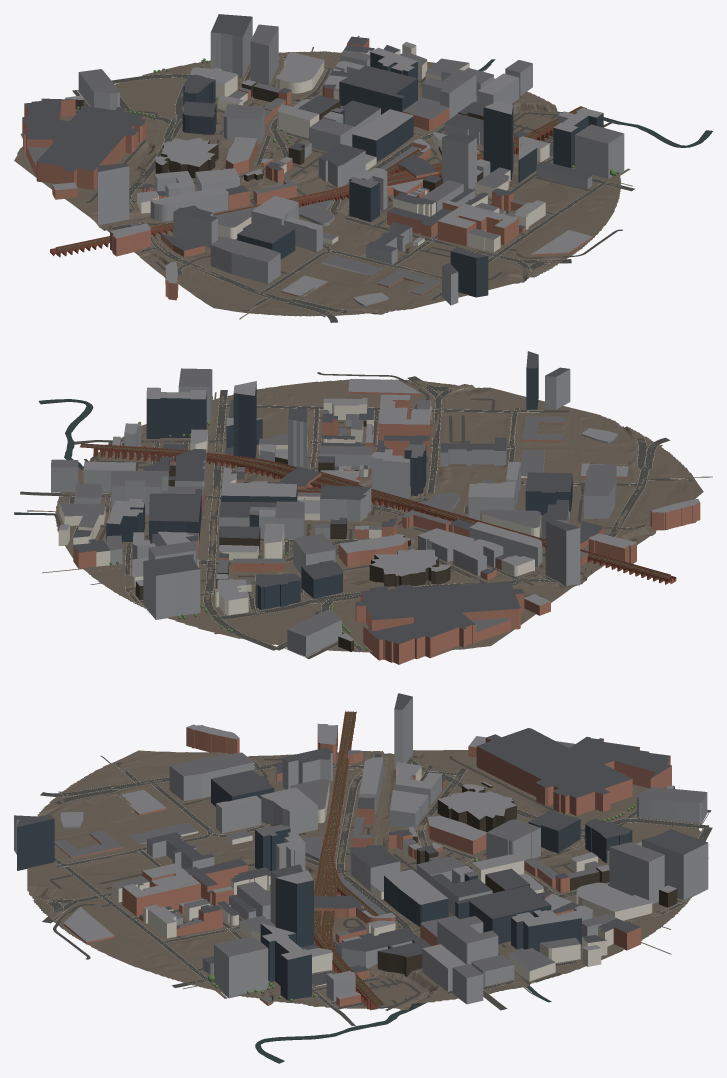
Rendered from sur_m_src.glb.
3 views of the same model, one above another, from view 1: azimuth 30°, elevation 25°; view 2: azimuth 150°, elevation 25°; view 3: azimuth 270°, elevation 25° (orthographic). The views are drawn at different scales.
Parts seen in each view (by area): view 1: Terrain_EA_DTM, bldg_30089216, bldg_23112318, bldg_30927973, road_3697914, bldg_31177215, viaduct_31178960_arch, bldg_31176345, viaduct_31178960_deck, kerb_3697914, canal_28047773; view 2: Terrain_EA_DTM, bldg_30089216, bldg_23112318, bldg_30927973, road_3697914, bldg_31177215, viaduct_31178960_arch, bldg_31176345, viaduct_31178960_deck, kerb_3697914, canal_28047773; view 3: Terrain_EA_DTM, bldg_30089216, bldg_23112318, bldg_30927973, road_3697914, bldg_31177215, viaduct_31178960_deck, bldg_31176345, viaduct_31178960_arch, kerb_3697914, canal_28047773.
Part boxes in pixels (x1,y1,x2,y2): Terrain_EA_DTM: [14, 35, 632, 319]; bldg_30089216: [27, 17, 624, 306]; bldg_23112318: [22, 14, 592, 300]; bldg_30927973: [52, 42, 603, 304]; road_3697914: [72, 56, 634, 322]; bldg_31177215: [137, 45, 552, 275]; viaduct_31178960_arch: [50, 106, 586, 257]; bldg_31176345: [65, 70, 483, 197]; viaduct_31178960_deck: [56, 106, 585, 251]; kerb_3697914: [73, 56, 629, 322]; canal_28047773: [101, 59, 712, 227]; Terrain_EA_DTM: [27, 379, 712, 657]; bldg_30089216: [51, 368, 617, 656]; bldg_23112318: [73, 351, 700, 664]; bldg_30927973: [59, 358, 699, 641]; road_3697914: [20, 372, 691, 658]; bldg_31177215: [58, 399, 544, 615]; viaduct_31178960_arch: [80, 443, 676, 584]; bldg_31176345: [135, 421, 450, 651]; viaduct_31178960_deck: [80, 444, 670, 578]; kerb_3697914: [20, 378, 684, 658]; canal_28047773: [14, 399, 581, 585]; Terrain_EA_DTM: [27, 750, 709, 1010]; bldg_30089216: [14, 697, 708, 1004]; bldg_23112318: [14, 693, 707, 1006]; bldg_30927973: [17, 723, 676, 1000]; road_3697914: [33, 754, 712, 1025]; bldg_31177215: [112, 767, 652, 986]; viaduct_31178960_deck: [314, 712, 382, 1005]; bldg_31176345: [324, 782, 677, 977]; viaduct_31178960_arch: [314, 711, 383, 1010]; kerb_3697914: [33, 754, 712, 1025]; canal_28047773: [255, 754, 551, 1063].
Size of the model in its own units: 945 by 97.78 by 814.
Materials: 20 (4 with a texture image).
